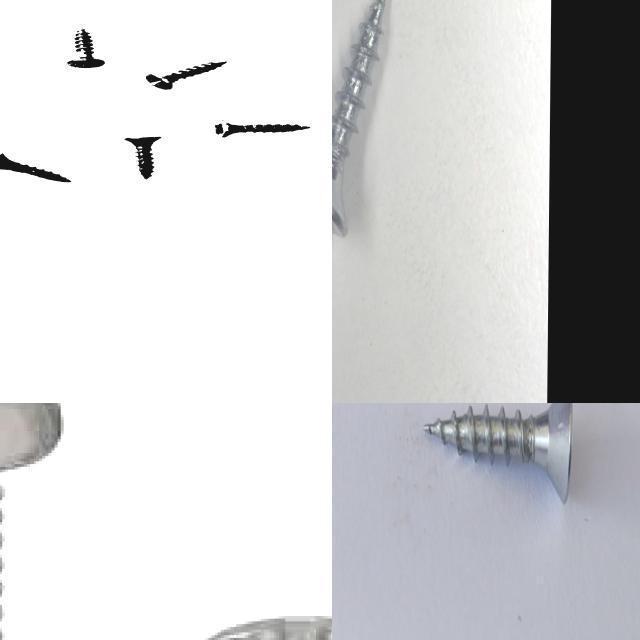Screw: (424, 403, 573, 503), (332, 0, 385, 236), (145, 61, 226, 89), (0, 154, 70, 182), (124, 137, 160, 179), (67, 28, 104, 68), (215, 123, 310, 137)
